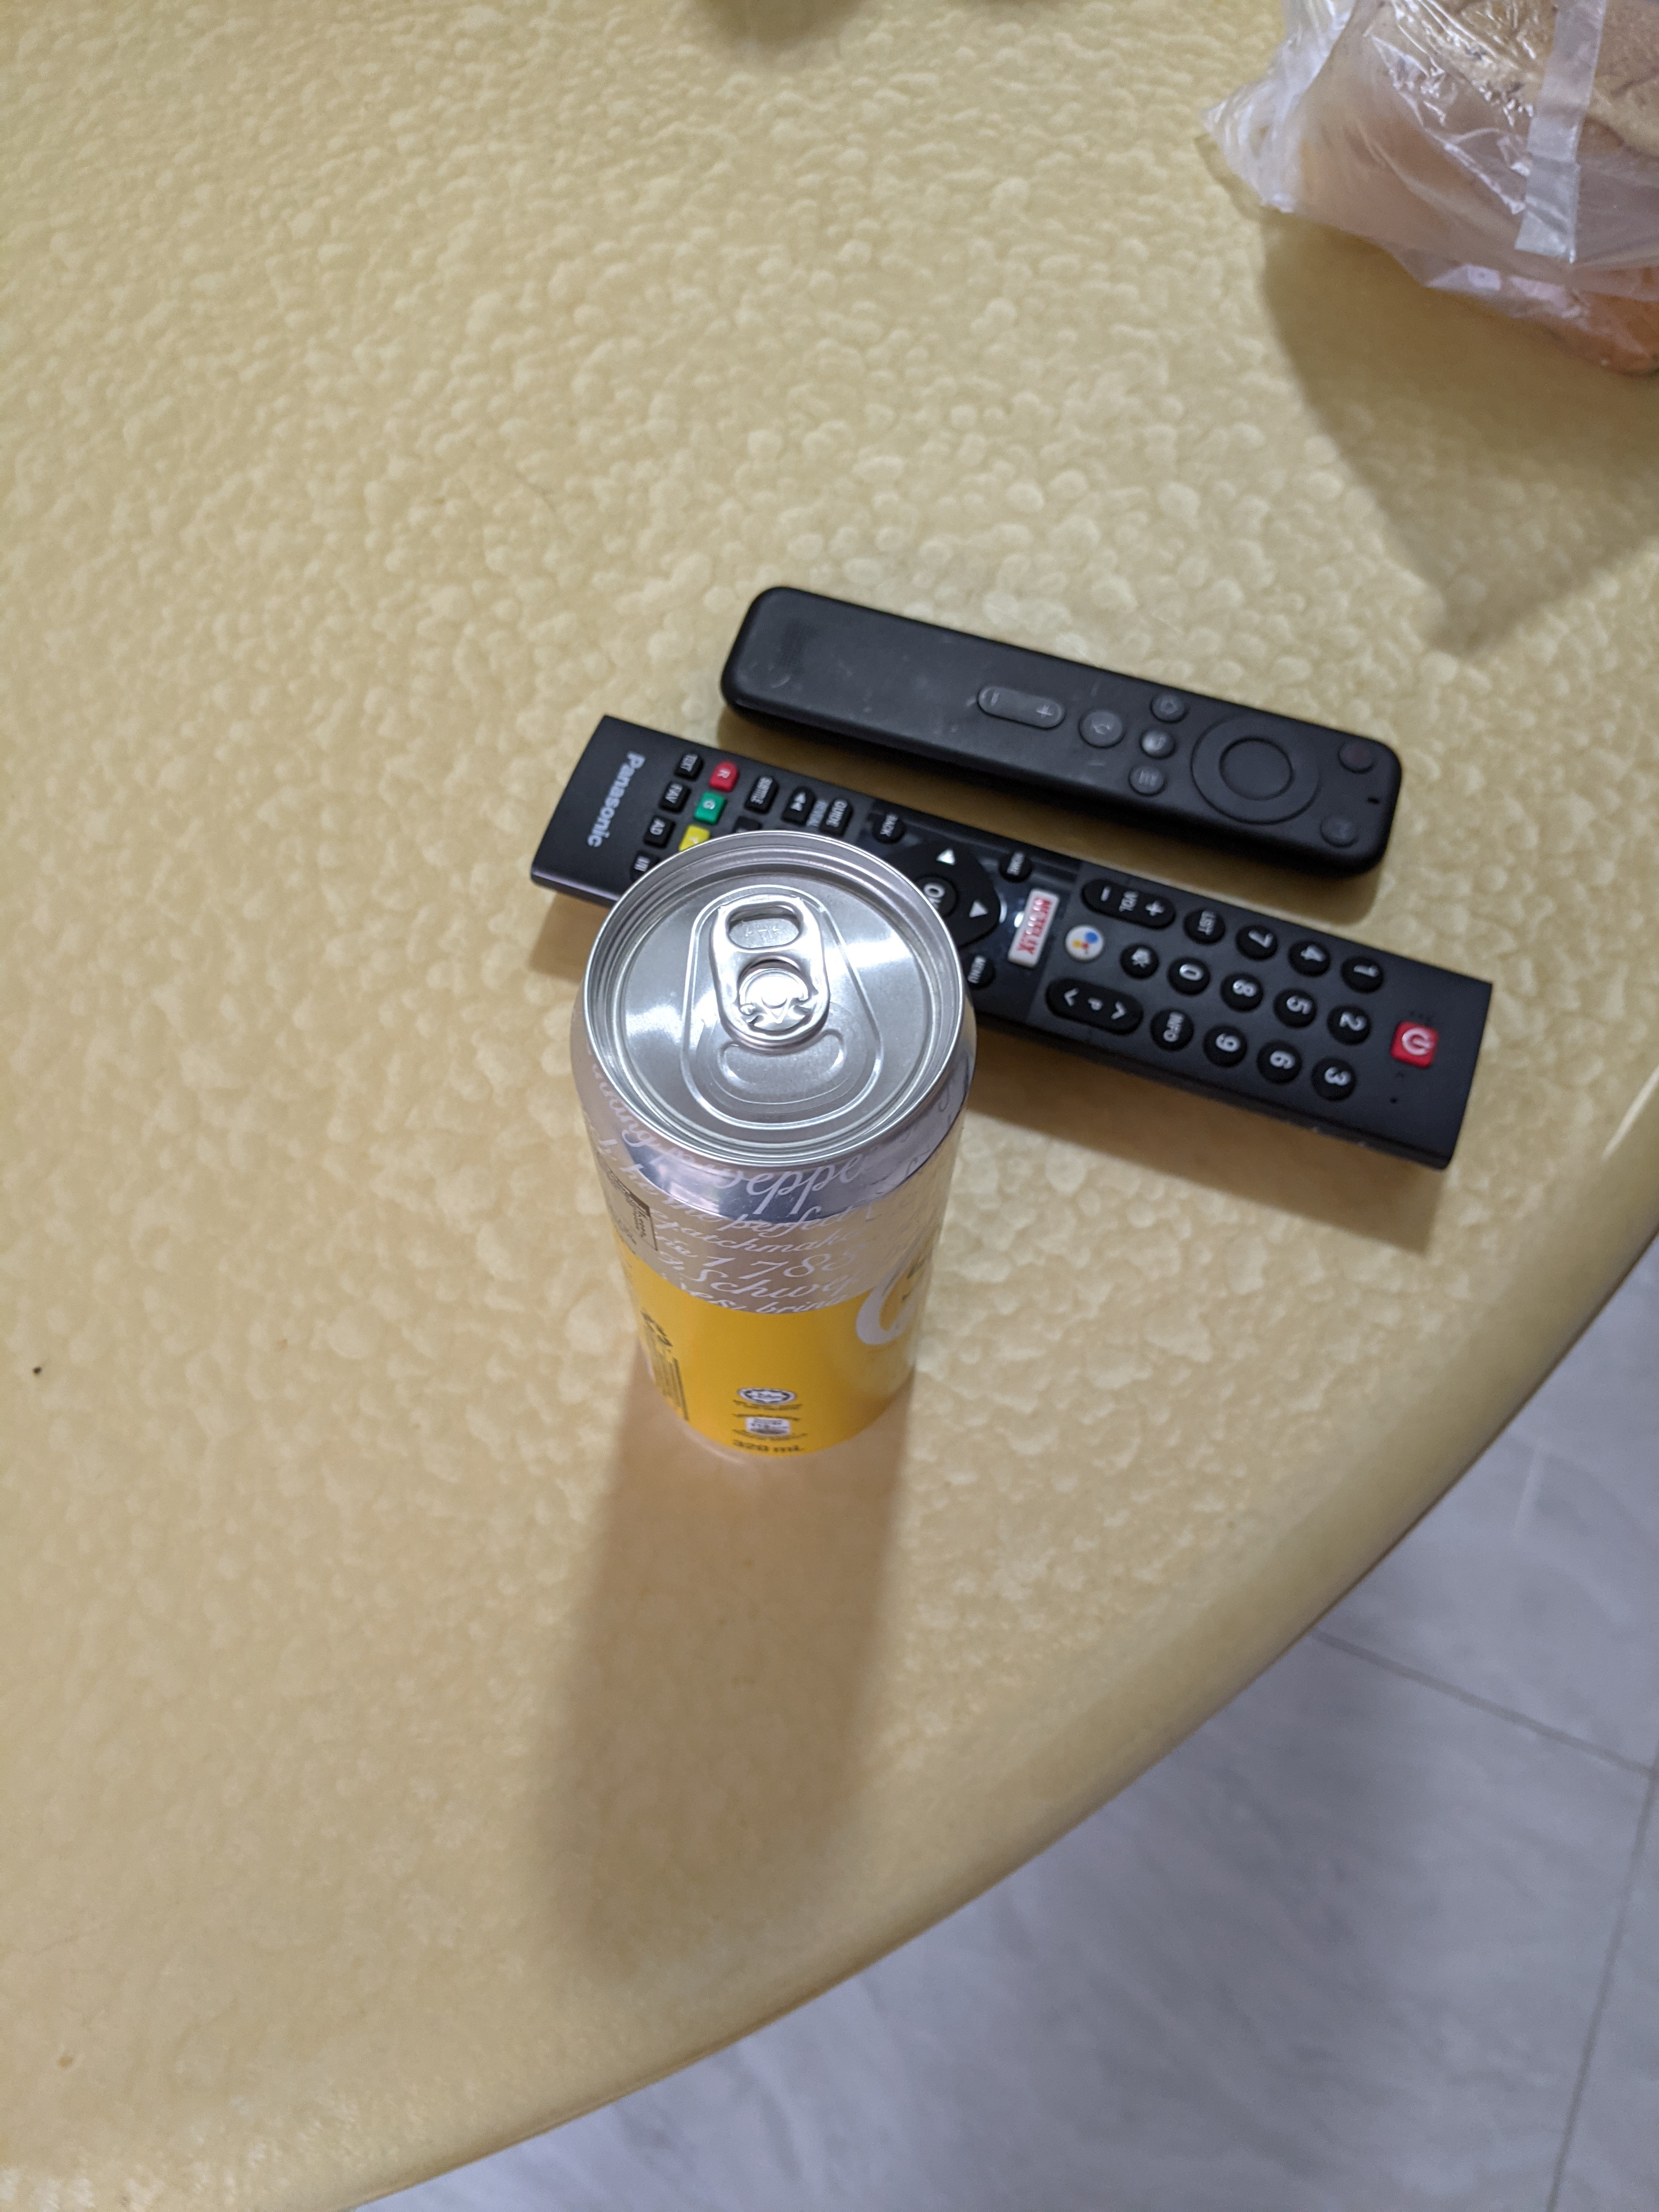schweppes drink can tonic water: (554, 803, 999, 1507)
